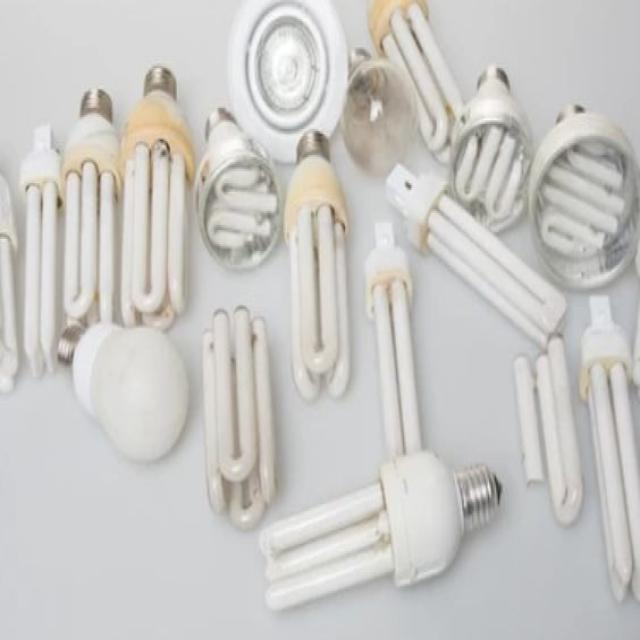electronic: (0, 0, 639, 614), (258, 222, 502, 610), (258, 447, 502, 610), (526, 101, 639, 290), (226, 0, 348, 162), (70, 319, 190, 462), (367, 0, 464, 164), (192, 104, 281, 268), (448, 63, 534, 232), (339, 51, 419, 176)
